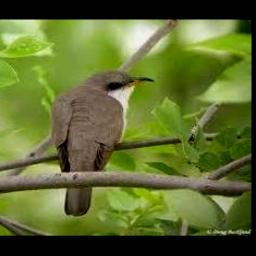Cuckoo: (48, 70, 155, 216)
